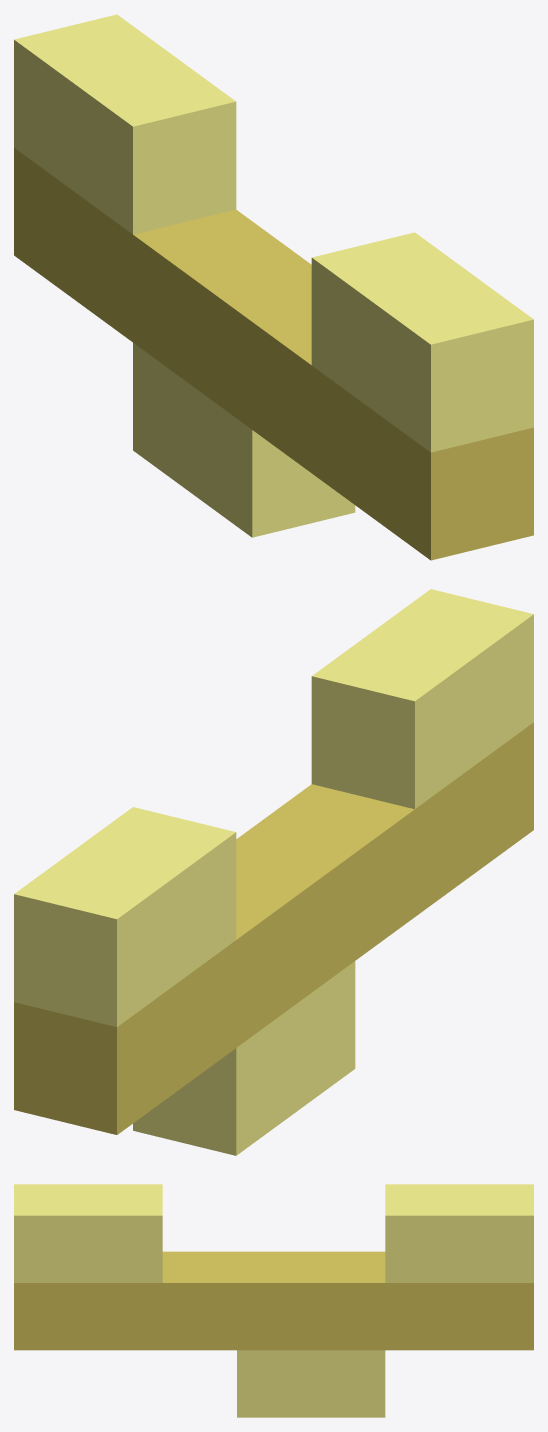
Rendered from YellowHouseParts-2.obj.
3 renders of one model, top to bottom at view 1: azimuth 30°, elevation 25°; view 2: azimuth 150°, elevation 25°; view 3: azimuth 270°, elevation 25°, orthographic. The views are drawn at different scales.
Bounding box in the file's own units: 0.1 × 0.3 × 0.7.
1 material, 1 textured.
